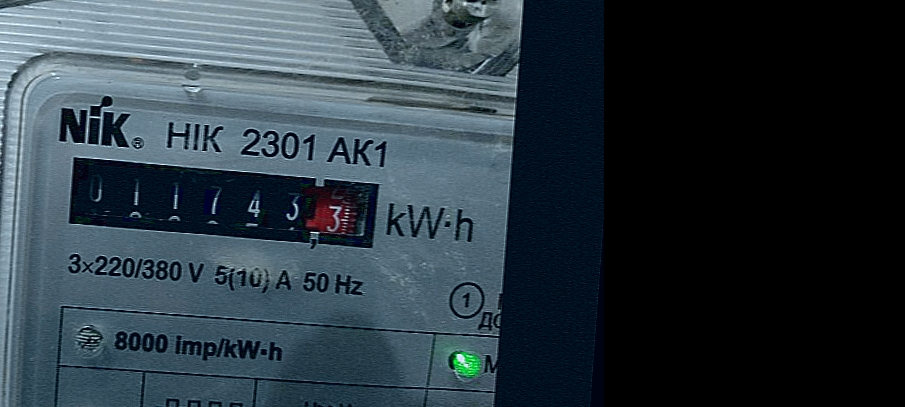0: (83, 168, 105, 205)
1: (166, 175, 183, 210), (129, 172, 142, 206)
3: (279, 186, 301, 223), (323, 201, 343, 236)
4: (243, 184, 262, 219)
7: (204, 180, 224, 215)
screen: (52, 143, 392, 261)
